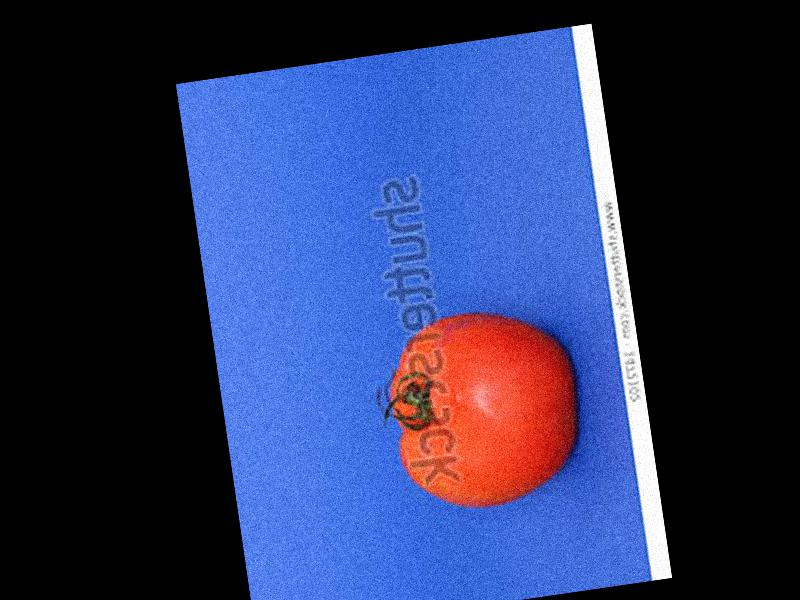Tomato: (378, 303, 588, 521)
